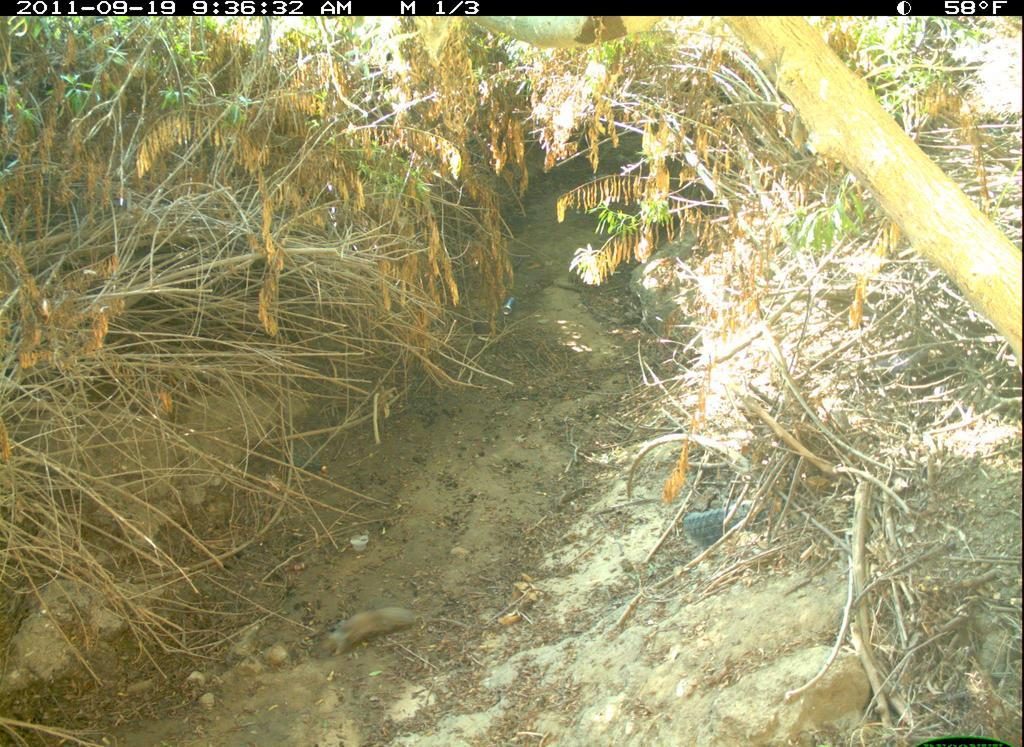squirrel: (315, 600, 426, 663)
